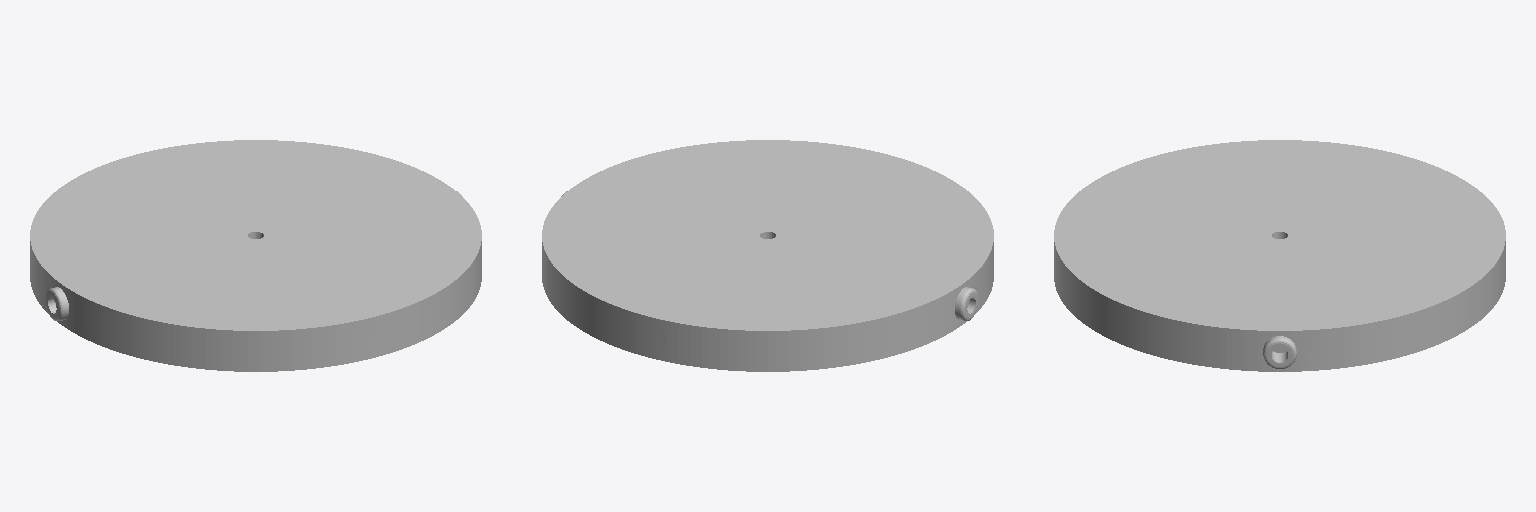
The model's file is heartDisk.obj.
3 renders of one model, left to right at view 1: azimuth 30°, elevation 25°; view 2: azimuth 150°, elevation 25°; view 3: azimuth 270°, elevation 25°, orthographic.
Bounding box in the file's own units: 20.82 × 2 × 20.